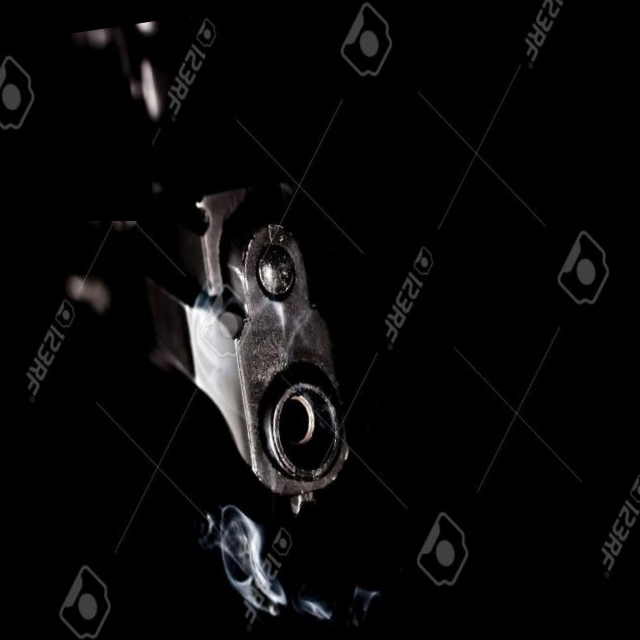gun: (49, 1, 372, 562)
